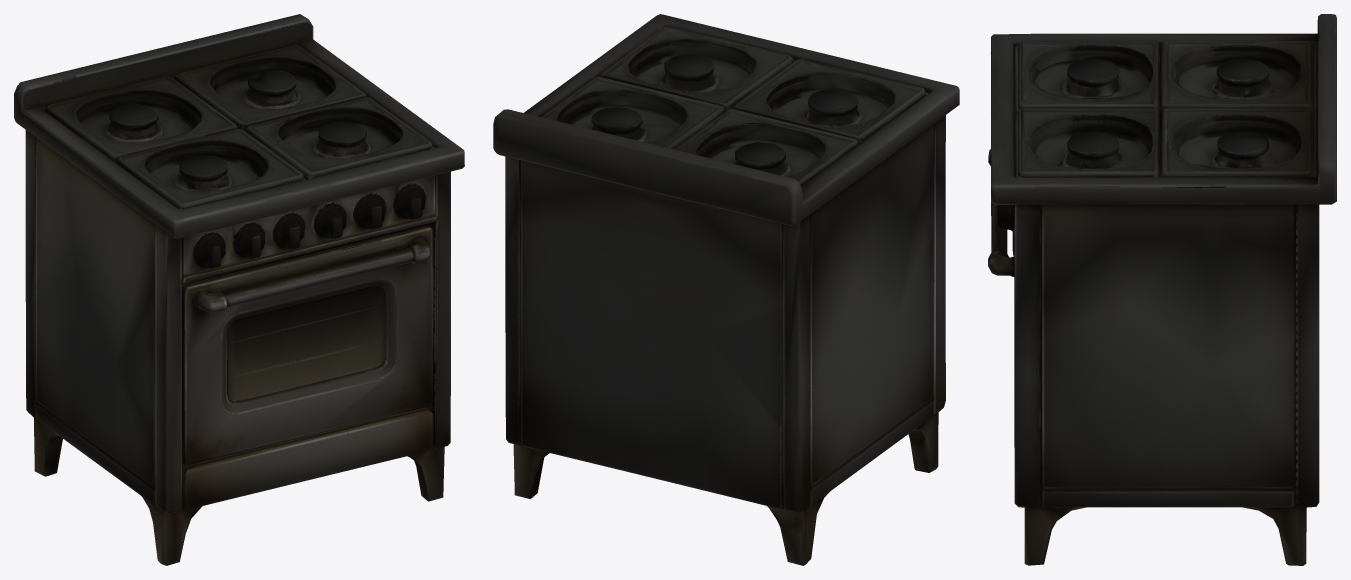
The model's file is stove.glb.
The picture shows the model from 3 angles, left to right: view 1: azimuth 30°, elevation 25°; view 2: azimuth 150°, elevation 25°; view 3: azimuth 270°, elevation 25°; orthographic projection. The views are drawn at different scales.
Parts seen in each view (by area): view 1: stove; view 2: stove; view 3: stove.
Boxes of the visible parts, x1,y1,x2,y2 form: stove: (14,14,464,565); stove: (493,14,959,565); stove: (988,14,1336,565).
Size of the model in its own units: 0.7496 by 0.928 by 0.722.
1 material, 1 textured.
